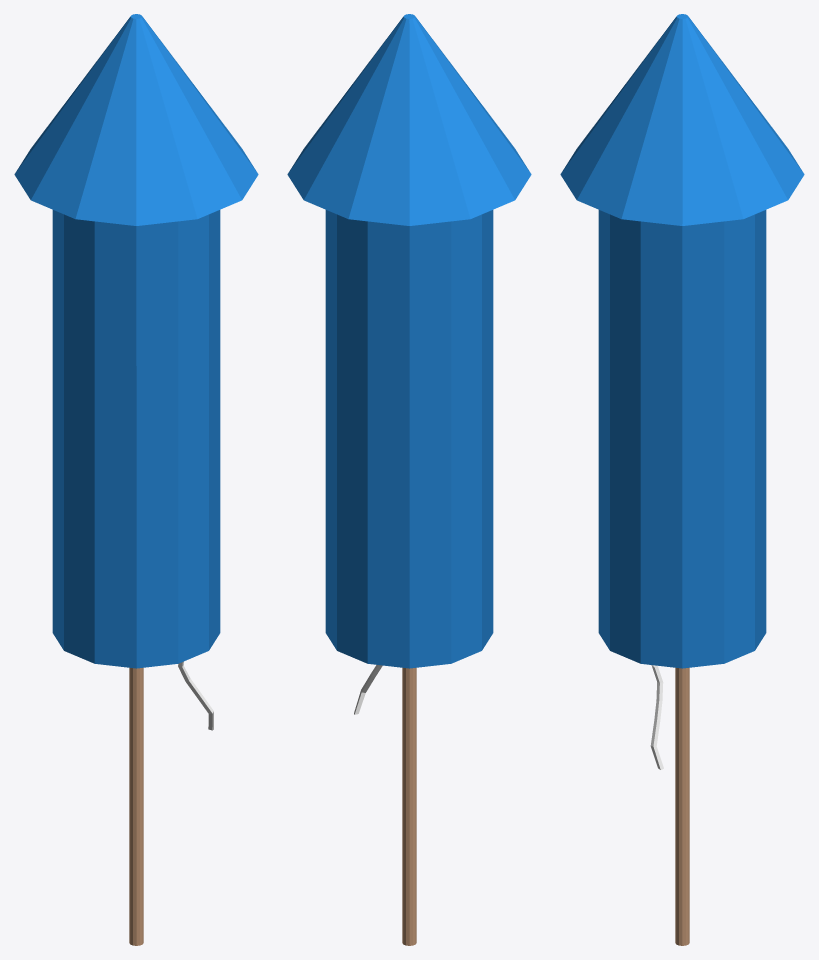
The model's file is firework2.fbx.
3 renders of one model, left to right at view 1: azimuth 30°, elevation 25°; view 2: azimuth 150°, elevation 25°; view 3: azimuth 270°, elevation 25°, orthographic.
Visible parts, largest first — view 1: Firework; view 2: Firework; view 3: Firework.
Boxes of the visible parts, x1,y1,x2,y2 form: Firework: [14, 14, 258, 945]; Firework: [287, 14, 531, 945]; Firework: [560, 14, 804, 945].
Bounding box in the file's own units: 22.12 × 92.57 × 22.12.
1 material, 1 textured.
